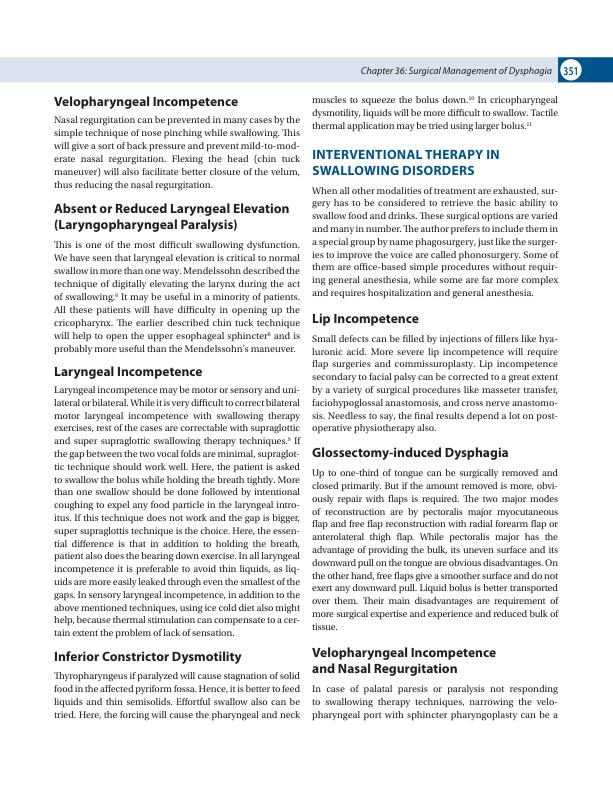header: (360, 66, 553, 77)
section-heading: (311, 148, 502, 177)
sub-section-heading: (53, 201, 291, 234), (310, 645, 498, 677), (53, 94, 240, 111), (311, 445, 509, 461), (53, 650, 243, 665), (52, 364, 204, 381), (311, 311, 422, 328)
text: (52, 384, 301, 641), (311, 467, 560, 631), (53, 239, 303, 356), (311, 185, 561, 299), (310, 333, 560, 435), (52, 113, 302, 192), (53, 670, 302, 722), (311, 683, 561, 722), (311, 95, 559, 134)
